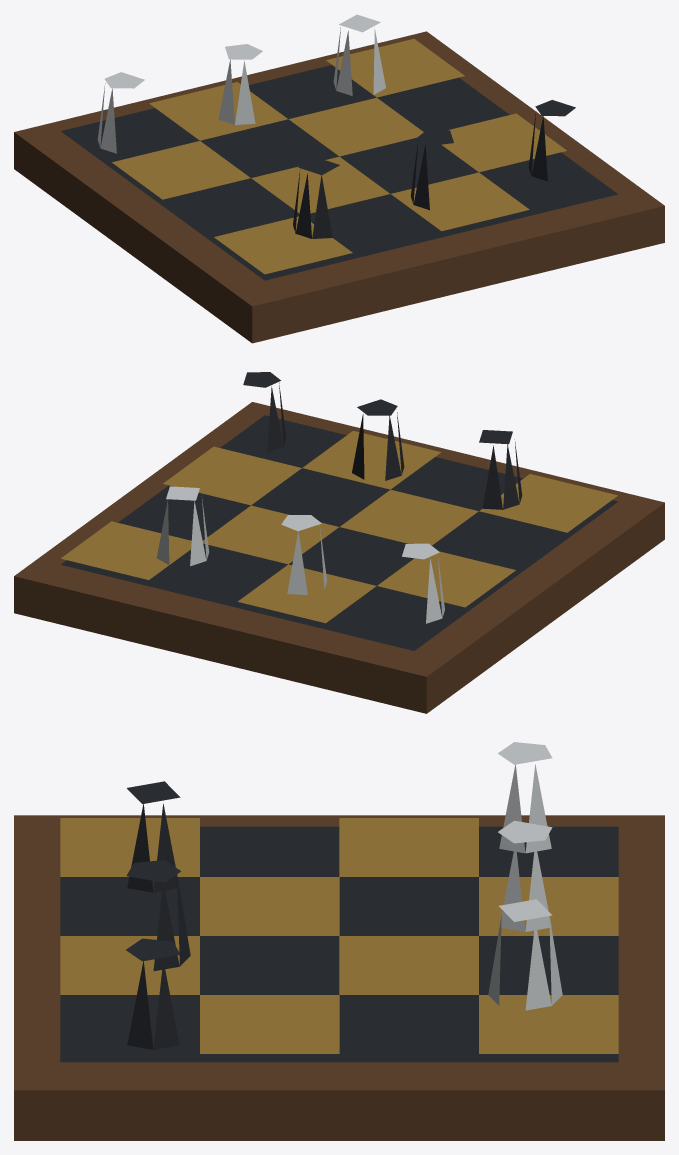
Rendered from chatta-ragul-set.lod.glb.
The picture shows the model from 3 angles, top to bottom: view 1: azimuth 30°, elevation 25°; view 2: azimuth 150°, elevation 25°; view 3: azimuth 270°, elevation 25°; orthographic projection. The views are drawn at different scales.
Parts seen in each view (by area): view 1: m; view 2: m; view 3: m.
Boxes of the visible parts, x1,y1,x2,y2 form: m: (14,14,664,343); m: (14,372,664,713); m: (14,742,664,1140).
Bounding box in the file's own units: 0.14 × 0.0361 × 0.14.
